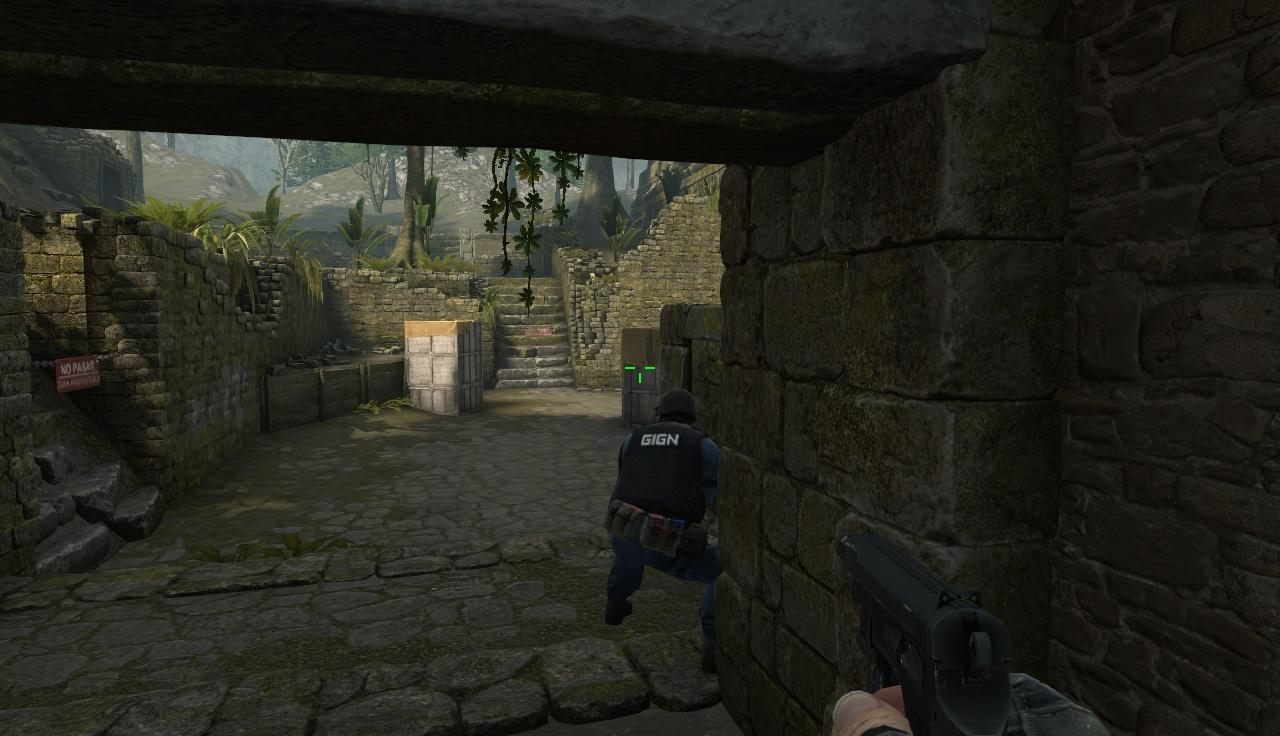ct: (604, 390, 715, 621)
cthead: (658, 389, 701, 432)
pistol: (826, 523, 1032, 736)
